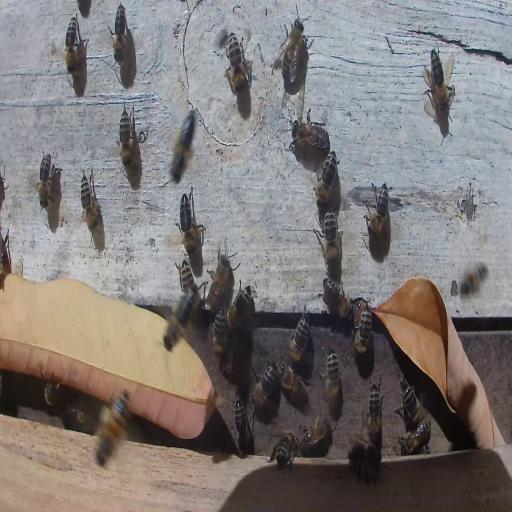nonpollenbee: (422, 48, 457, 114), (346, 437, 382, 488), (177, 256, 205, 320), (280, 19, 306, 86), (290, 109, 329, 153), (177, 188, 203, 254), (322, 274, 354, 326), (225, 279, 256, 331), (206, 253, 234, 310), (225, 33, 250, 96), (365, 181, 390, 238), (318, 209, 342, 268), (79, 166, 100, 232), (280, 362, 309, 408), (314, 152, 338, 207), (288, 305, 311, 362), (352, 298, 373, 354), (233, 398, 253, 456), (252, 364, 278, 408), (399, 379, 423, 426), (267, 430, 298, 466), (323, 346, 341, 408), (37, 150, 54, 214), (110, 3, 127, 66), (299, 412, 328, 448), (400, 422, 431, 454), (367, 381, 382, 445), (460, 264, 488, 296), (118, 108, 132, 171), (64, 14, 78, 74), (210, 307, 227, 356), (65, 408, 95, 430), (0, 227, 10, 277), (44, 380, 59, 412), (311, 325, 336, 344)
pollenbee: (95, 386, 129, 465), (162, 282, 198, 351), (168, 102, 197, 183)
